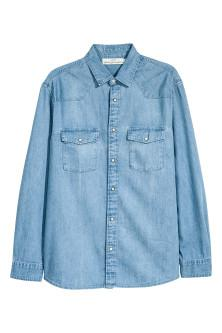teeshirt: (8, 44, 214, 289)
